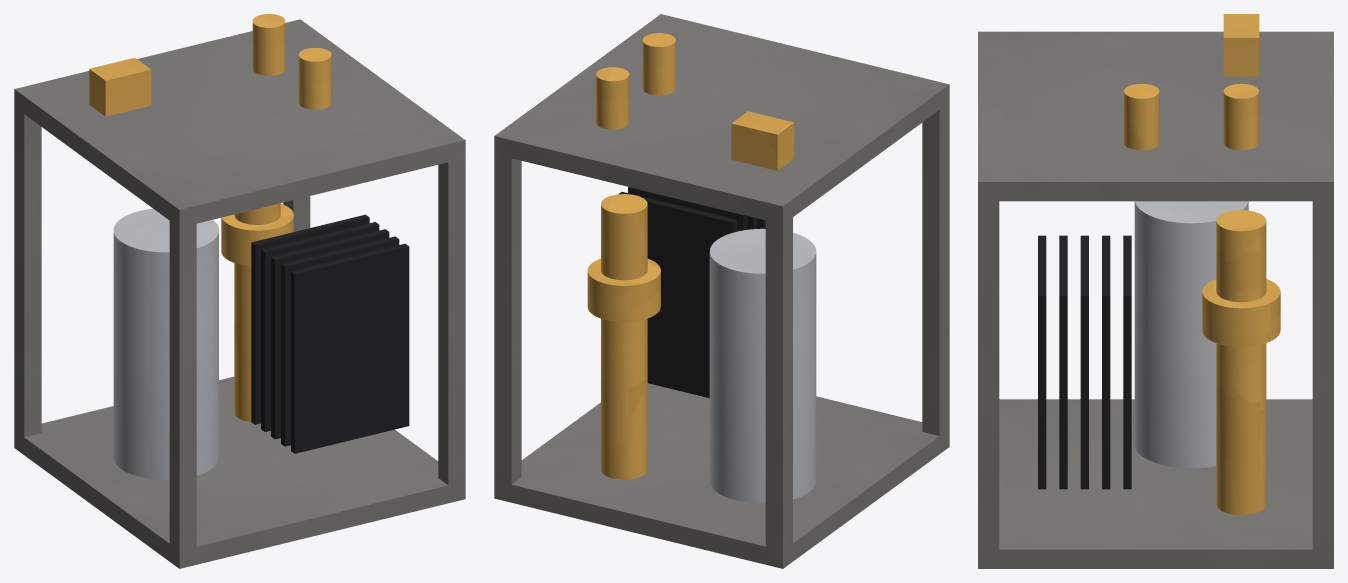
The model's file is tank08_cryocooler.glb.
The picture shows the model from 3 angles, left to right: view 1: azimuth 30°, elevation 25°; view 2: azimuth 150°, elevation 25°; view 3: azimuth 270°, elevation 25°; orthographic projection. The views are drawn at different scales.
Parts seen in each view (by area): view 1: frame, heat_exchanger, compressor, cryo_ports, cold_head; view 2: frame, compressor, cold_head, heat_exchanger, cryo_ports; view 3: frame, compressor, cold_head, heat_exchanger, cryo_ports.
Boxes of the visible parts, bbox=[...] form: frame: bbox=[14, 19, 465, 568]; heat_exchanger: bbox=[251, 214, 409, 453]; compressor: bbox=[113, 208, 218, 479]; cryo_ports: bbox=[89, 14, 331, 116]; cold_head: bbox=[221, 203, 293, 421]; frame: bbox=[494, 14, 949, 568]; compressor: bbox=[709, 228, 816, 503]; cold_head: bbox=[587, 194, 660, 479]; heat_exchanger: bbox=[618, 187, 765, 397]; cryo_ports: bbox=[596, 33, 794, 170]; frame: bbox=[978, 31, 1333, 568]; compressor: bbox=[1134, 201, 1248, 468]; cold_head: bbox=[1202, 210, 1280, 514]; heat_exchanger: bbox=[1038, 235, 1131, 489]; cryo_ports: bbox=[1124, 14, 1259, 150].
Size of the model in its own units: 0.5 by 0.68 by 0.5.
4 materials, 3 textured.
